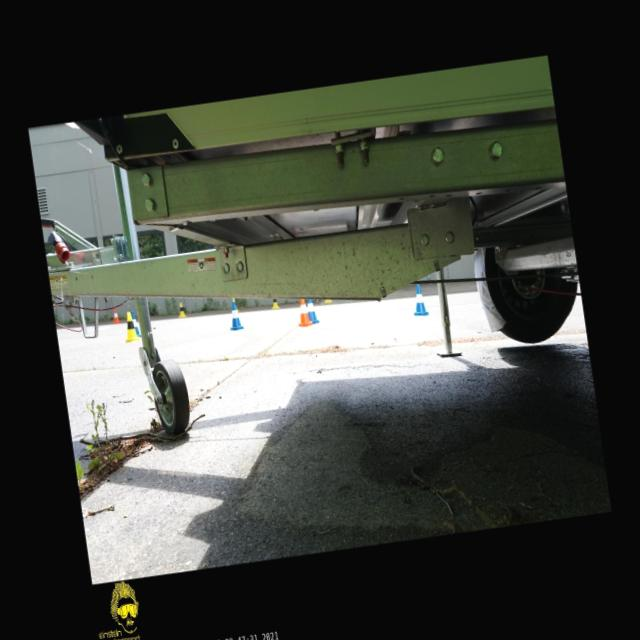blue_cone: (409, 282, 428, 316), (226, 301, 244, 332), (306, 297, 320, 324), (130, 310, 142, 338)
orange_cone: (295, 297, 313, 327), (112, 307, 120, 323)
yellow_cone: (121, 311, 140, 343), (177, 302, 187, 318), (270, 297, 280, 310)
